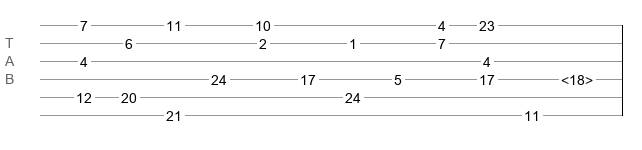1: (349, 36, 357, 46)
10: (255, 18, 271, 28)
11: (166, 18, 182, 28), (524, 108, 540, 118)
12: (76, 90, 92, 100)
17: (300, 72, 316, 82), (479, 72, 495, 82)
2: (259, 36, 267, 46)
20: (121, 90, 137, 100)
21: (166, 108, 182, 118)
23: (479, 18, 495, 28)
24: (211, 72, 227, 82), (345, 90, 361, 100)
4: (80, 54, 88, 64), (438, 18, 446, 28), (483, 54, 491, 64)
5: (394, 72, 402, 82)
6: (125, 36, 133, 46)
7: (80, 18, 88, 28), (438, 36, 446, 46)
harmonic: (561, 72, 593, 82)
